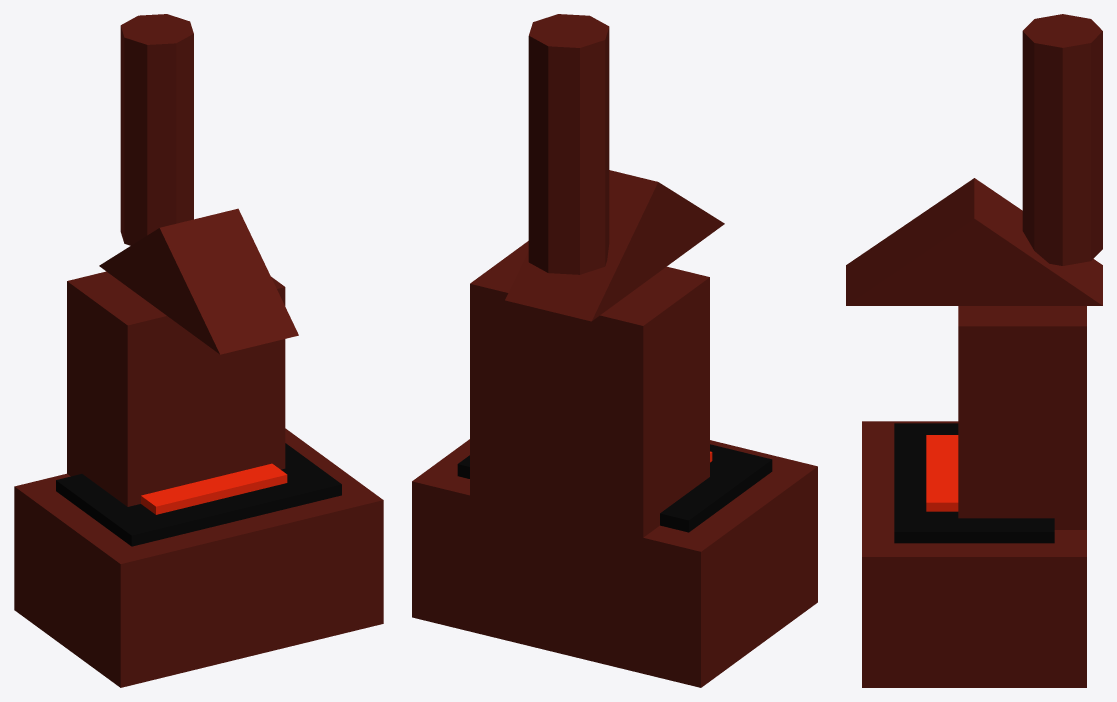
The model's file is forge.obj.
The picture shows the model from 3 angles, left to right: view 1: azimuth 30°, elevation 25°; view 2: azimuth 150°, elevation 25°; view 3: azimuth 270°, elevation 25°; orthographic projection. The views are drawn at different scales.
Visible parts, largest first — view 1: forge; view 2: forge; view 3: forge.
Part boxes in pixels (bbox=[...]): forge: bbox=[14, 14, 383, 687]; forge: bbox=[412, 14, 817, 687]; forge: bbox=[846, 14, 1102, 687].
Bounding box in the file's own units: 2 × 4.05 × 1.6.
